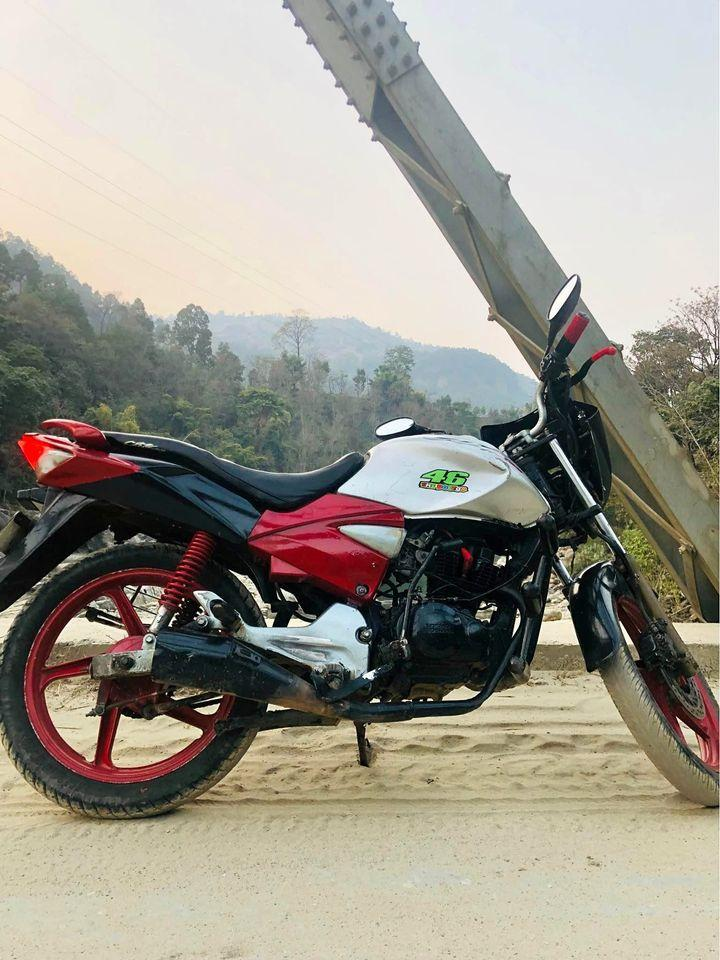bike: (1, 271, 720, 826)
